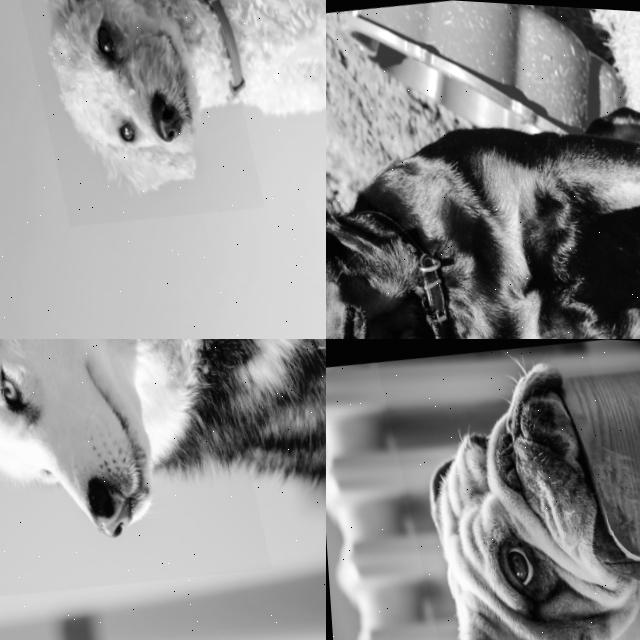bulldog: (373, 339, 640, 640)
husky: (0, 339, 267, 626)
poodle: (0, 0, 258, 234)
rottweiler: (326, 130, 465, 339)
